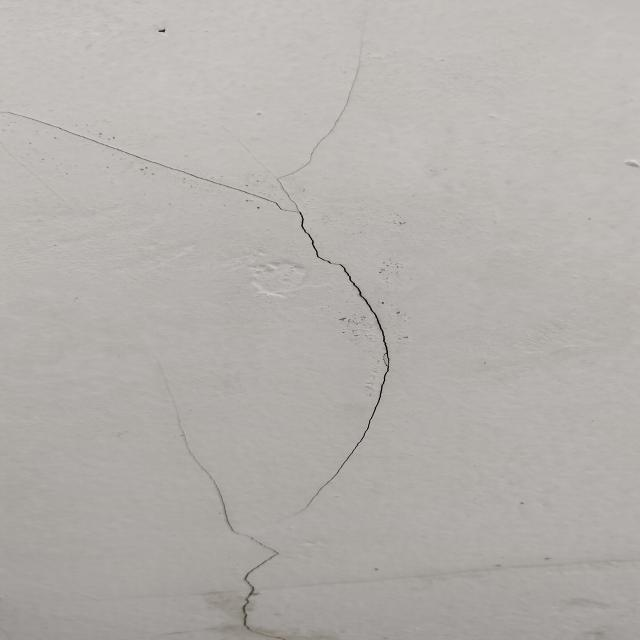Crack: (6, 99, 400, 640)
